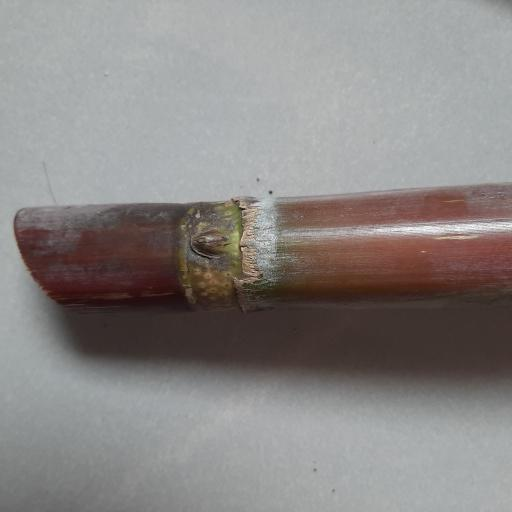Bud: (191, 230, 229, 258)
